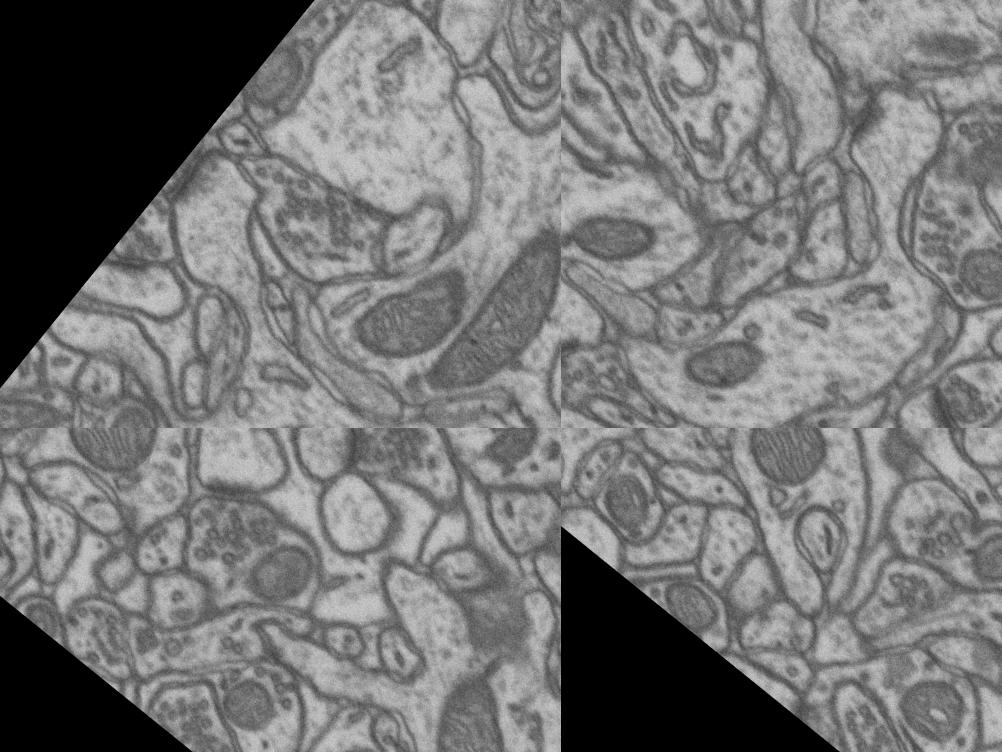mitochondria: (412, 215, 561, 422), (371, 606, 561, 752), (338, 238, 484, 388), (561, 176, 676, 300), (702, 428, 853, 514), (199, 521, 311, 636), (668, 308, 778, 419), (871, 653, 988, 752), (34, 428, 180, 494), (579, 452, 672, 546), (196, 658, 286, 748), (649, 564, 738, 648), (935, 223, 1002, 327), (238, 36, 317, 118), (939, 514, 1002, 614), (957, 84, 1002, 218), (49, 392, 197, 428), (0, 369, 73, 428), (481, 428, 561, 466), (314, 727, 413, 752)
